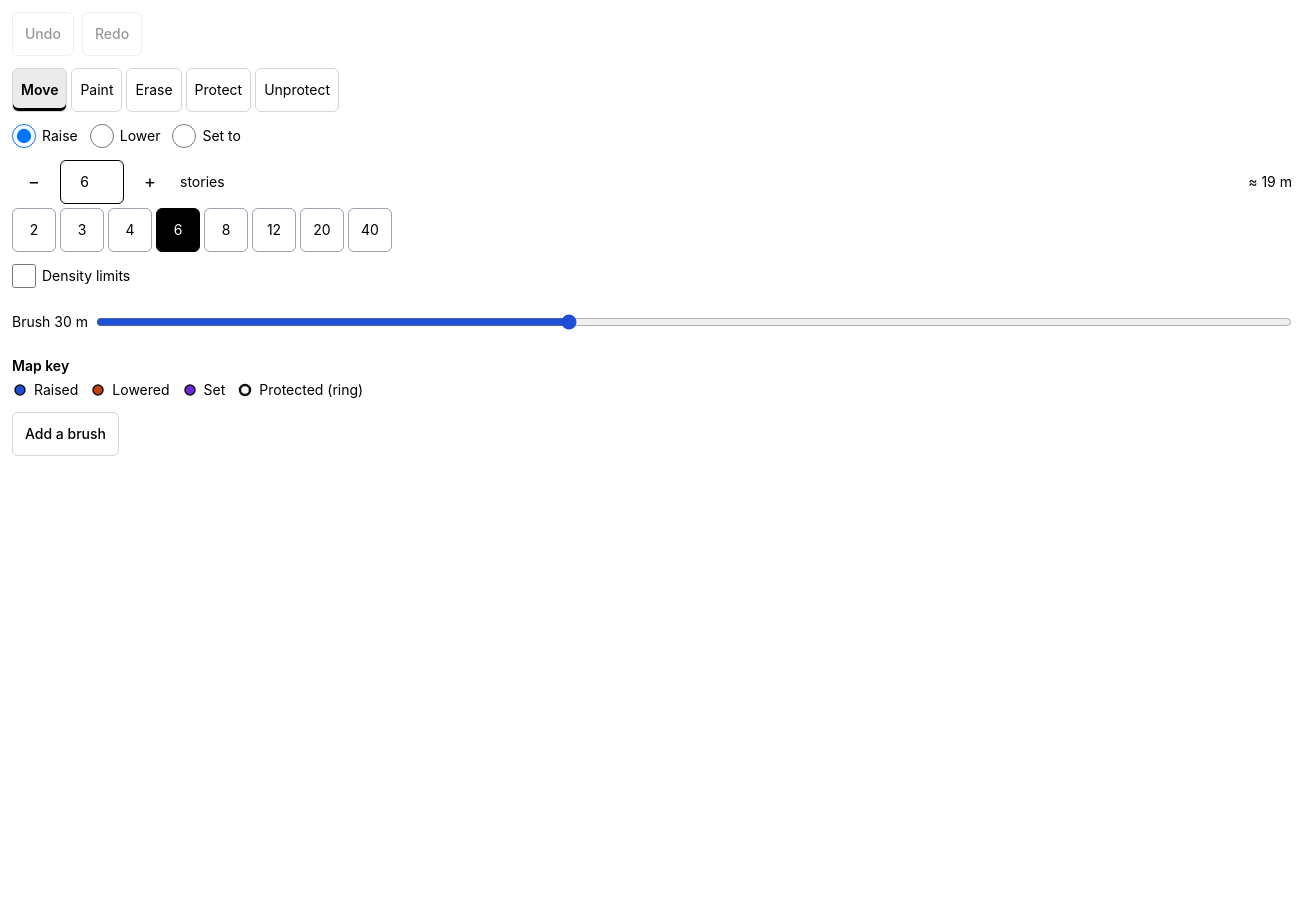
Test: BrushSection › "Add a brush" offers the four rule brushes; a kind without its data says why
This screenshot has width=1304, height=912.
Click the button "Add a brush" at (66, 434), box [12, 412, 119, 456]
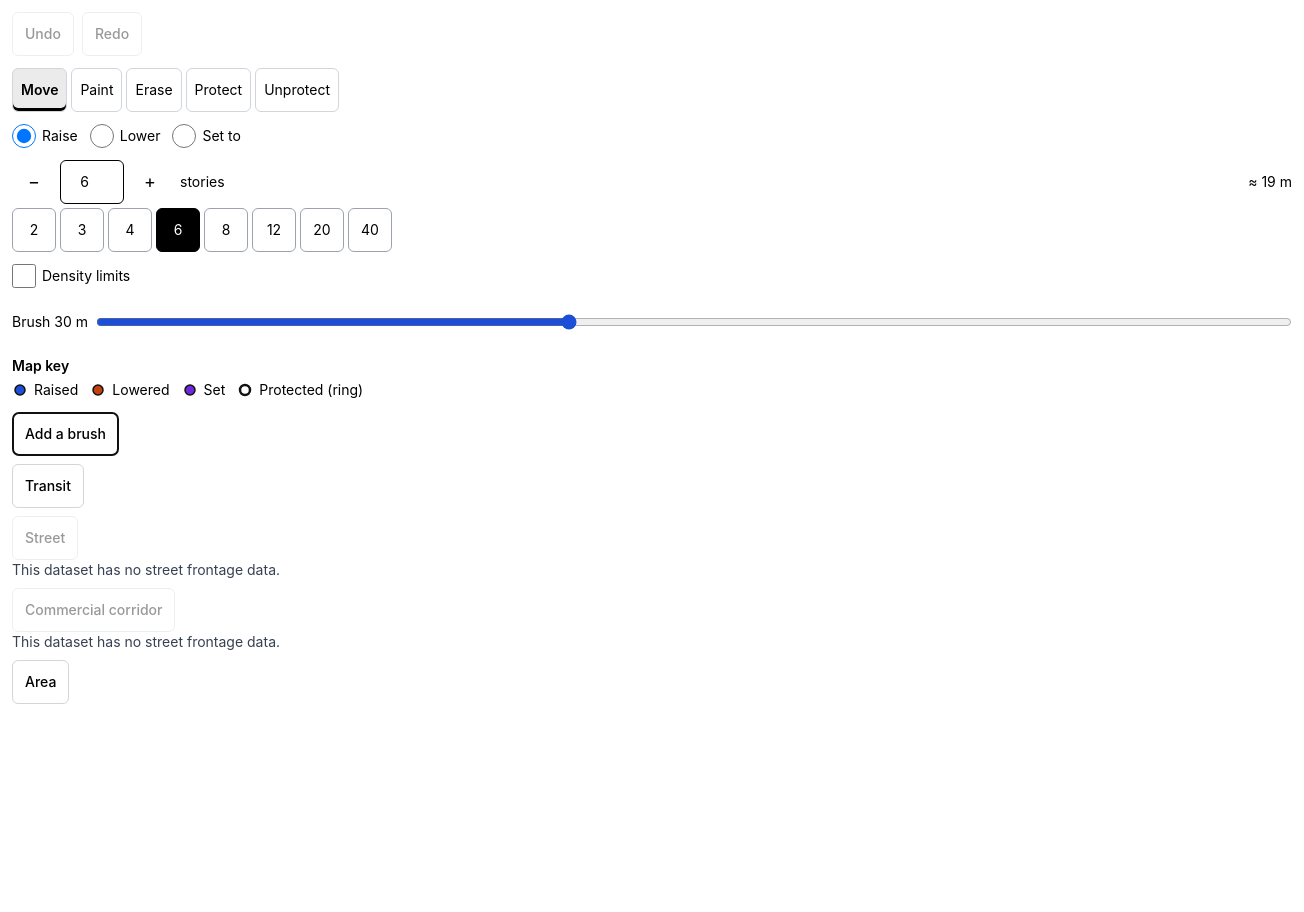
Expected: the button "Transit" is enabled, [12, 464, 84, 508]
Expected: the button "Area" is enabled, [12, 660, 69, 704]
Expected: the button "Street" is disabled, [12, 516, 78, 560]
